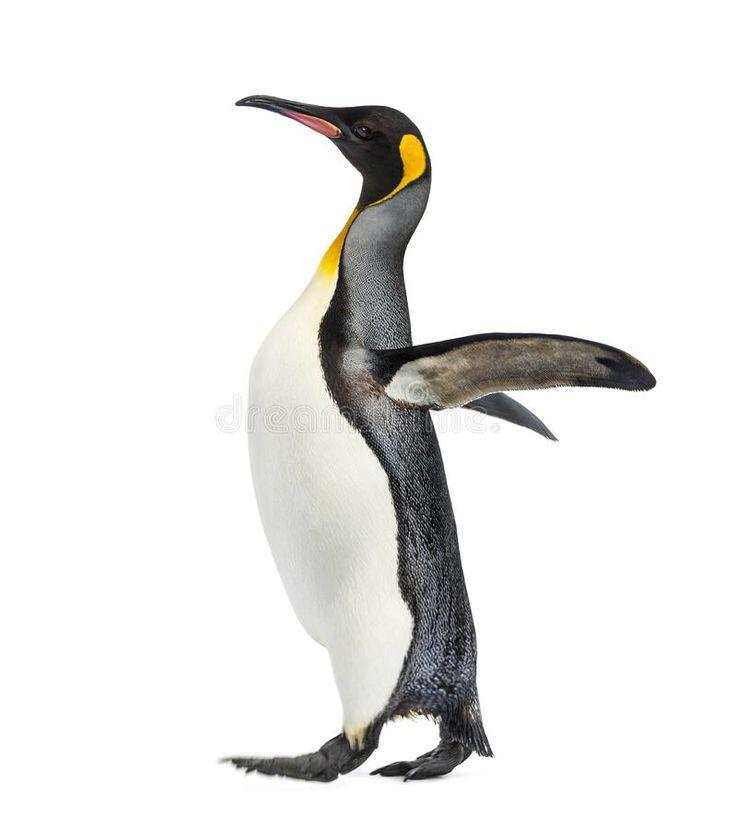king: (151, 53, 691, 784)
